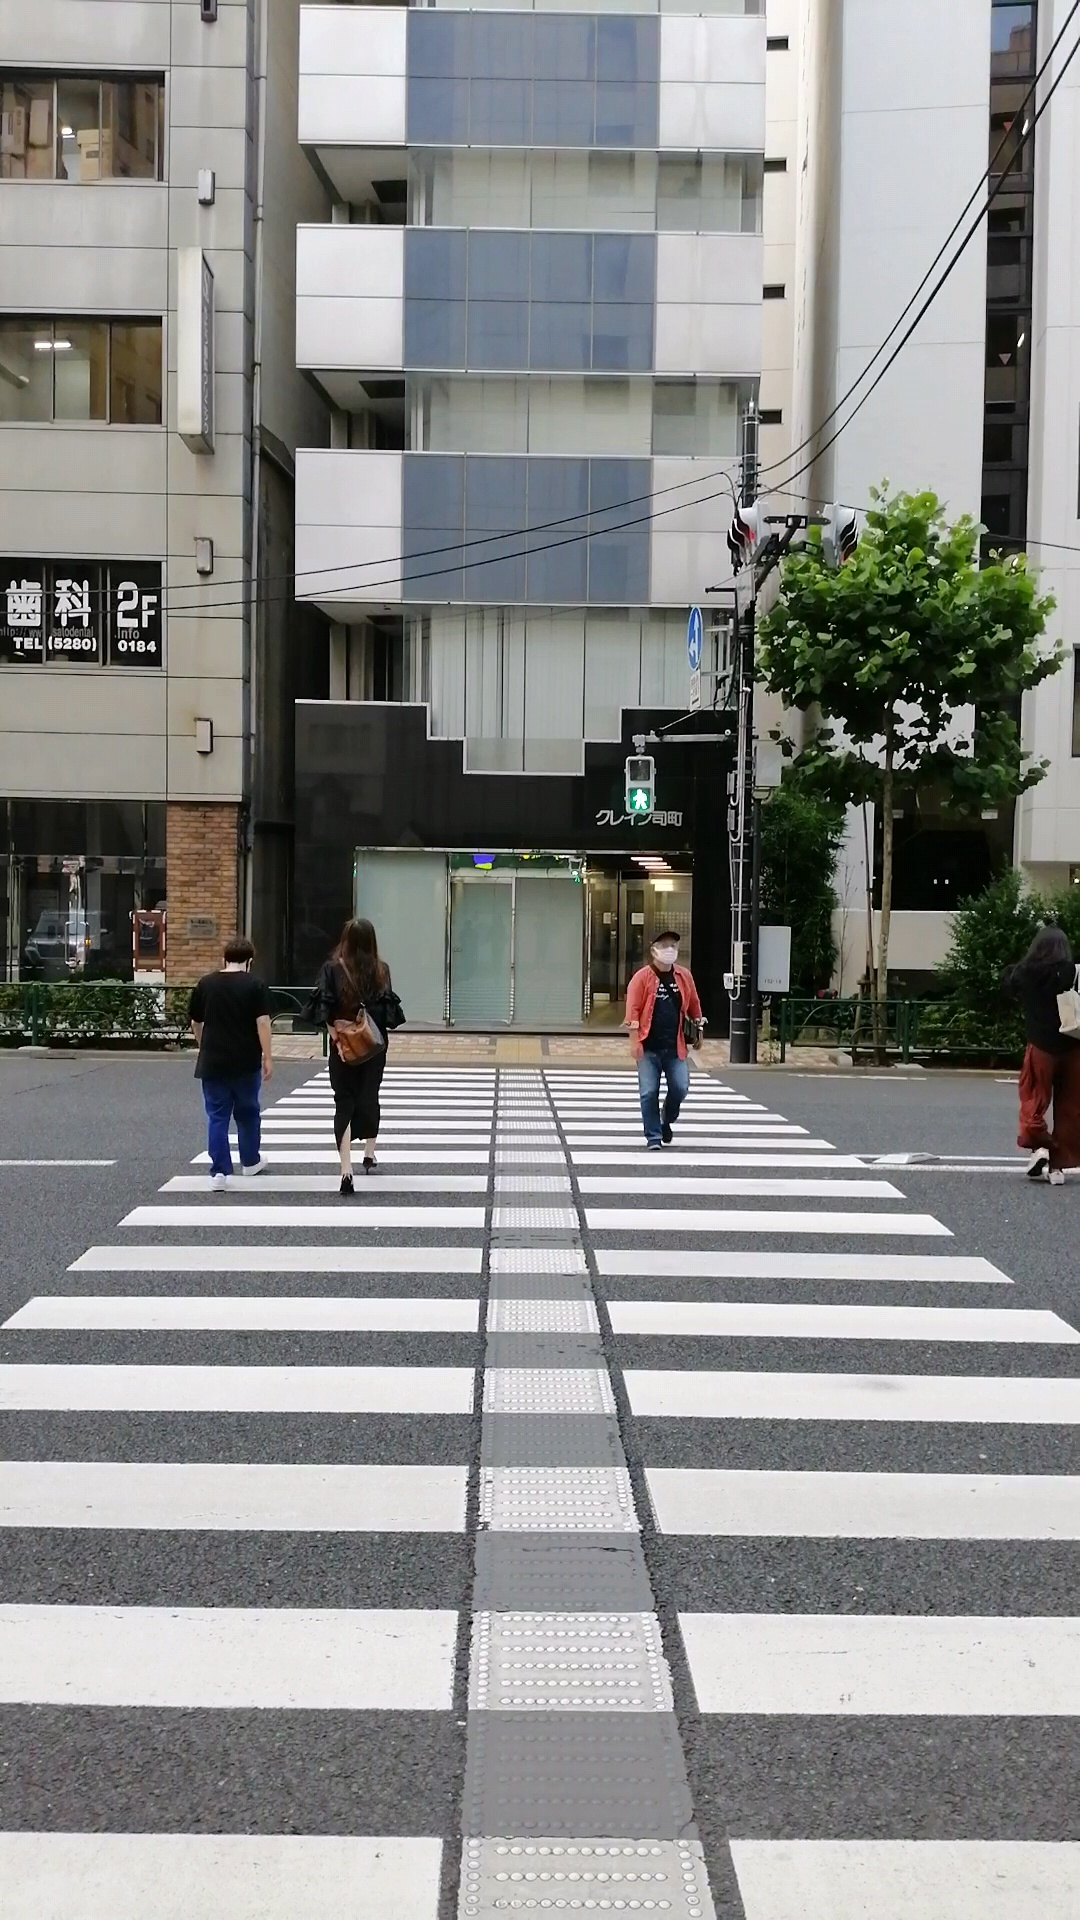green: (622, 754, 655, 818)
